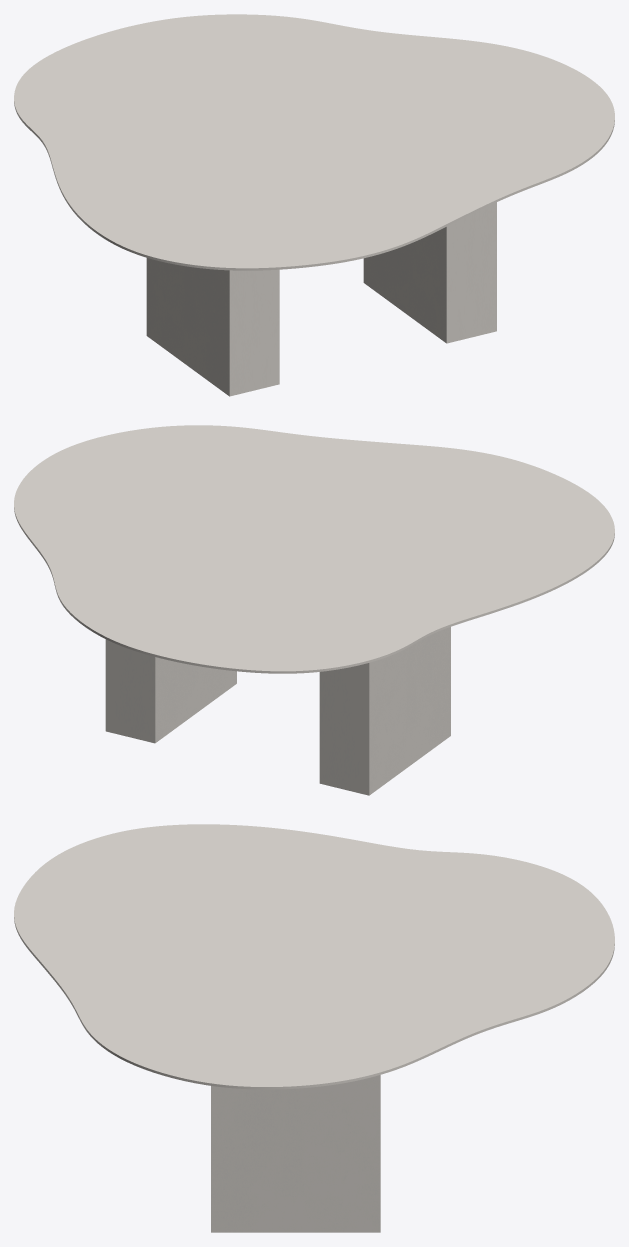
Rendered from pearlwhite_topone_facet_ridge.glb.
3 renders of one model, top to bottom at view 1: azimuth 30°, elevation 25°; view 2: azimuth 150°, elevation 25°; view 3: azimuth 270°, elevation 25°, orthographic. The views are drawn at different scales.
Visible parts, largest first — view 1: facet_topone, ridge; view 2: facet_topone, ridge; view 3: facet_topone, ridge.
Boxes of the visible parts, left/top/right/bottom form: facet_topone: left=14, top=14, right=614, bottom=270; ridge: left=146, top=202, right=496, bottom=396; facet_topone: left=14, top=425, right=614, bottom=673; ridge: left=105, top=627, right=450, bottom=795; facet_topone: left=14, top=824, right=614, bottom=1089; ridge: left=211, top=1075, right=380, bottom=1232.
Size of the model in its own units: 6.83 by 2.5 by 6.6.
1 material, 1 textured.
